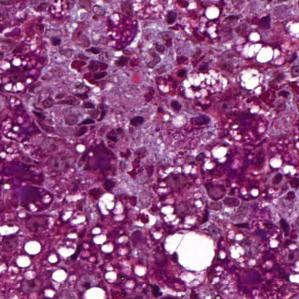ballooning: (163, 229, 218, 272)
